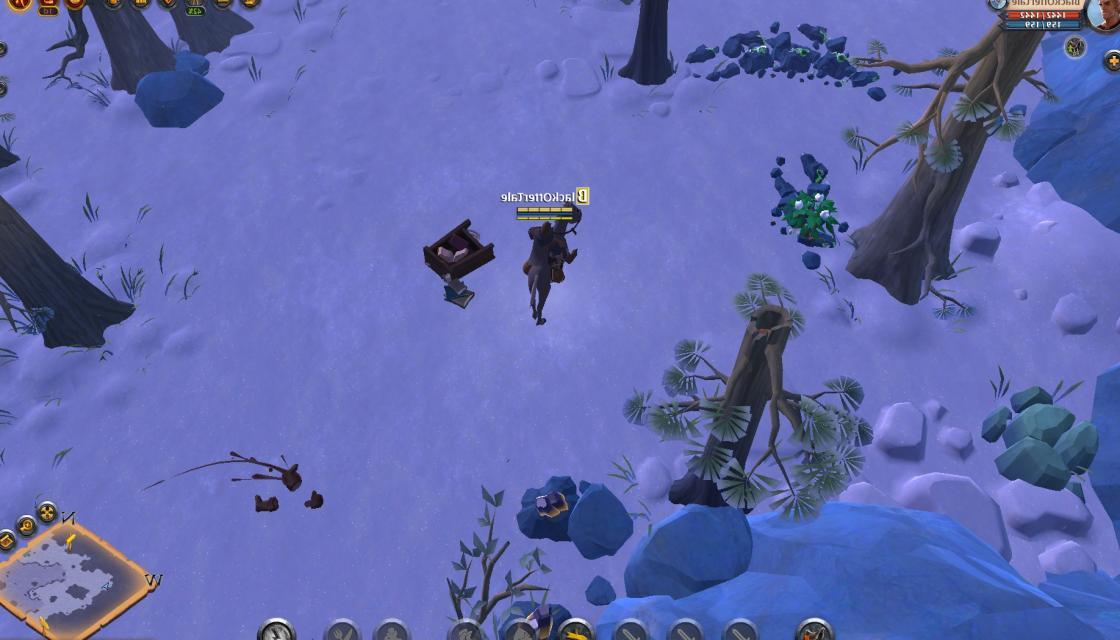copperore: (516, 476, 588, 538), (503, 596, 575, 640)
sandstone: (979, 391, 1110, 494)
